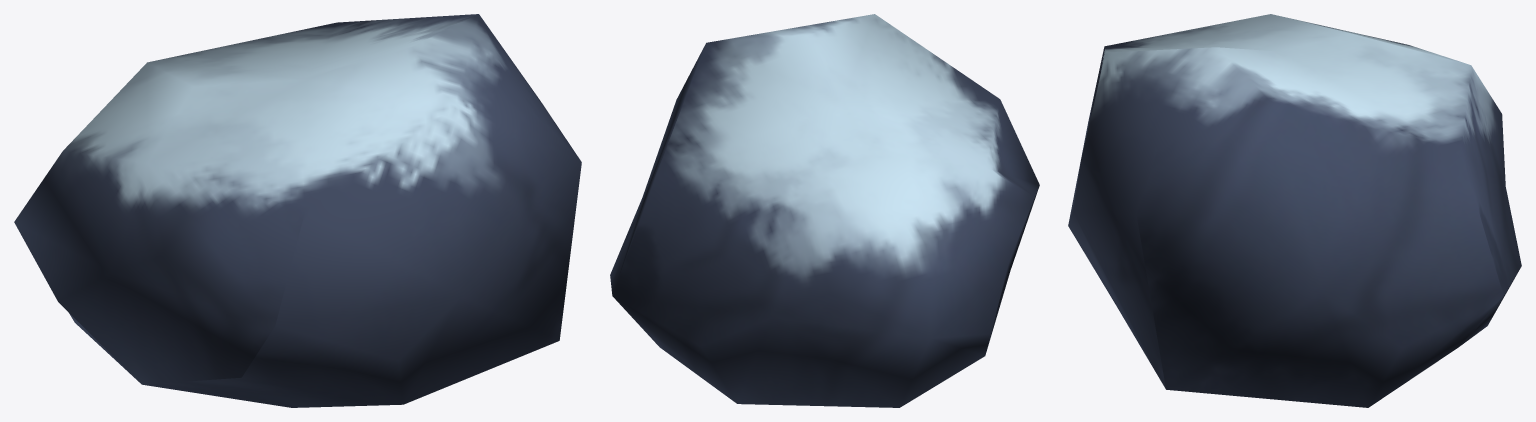
Rendered from Boulder_sizeS.fbx.
The picture shows the model from 3 angles, left to right: view 1: azimuth 30°, elevation 25°; view 2: azimuth 150°, elevation 25°; view 3: azimuth 270°, elevation 25°; orthographic projection. The views are drawn at different scales.
Parts seen in each view (by area): view 1: bolder5; view 2: bolder5; view 3: bolder5.
Boxes of the visible parts, box(x1,y1,x2,y2) form: bolder5: box(14, 14, 581, 407); bolder5: box(610, 14, 1039, 407); bolder5: box(1068, 14, 1521, 407).
Bounding box in the file's own units: 0.0114 × 0.00891 × 0.0111.
